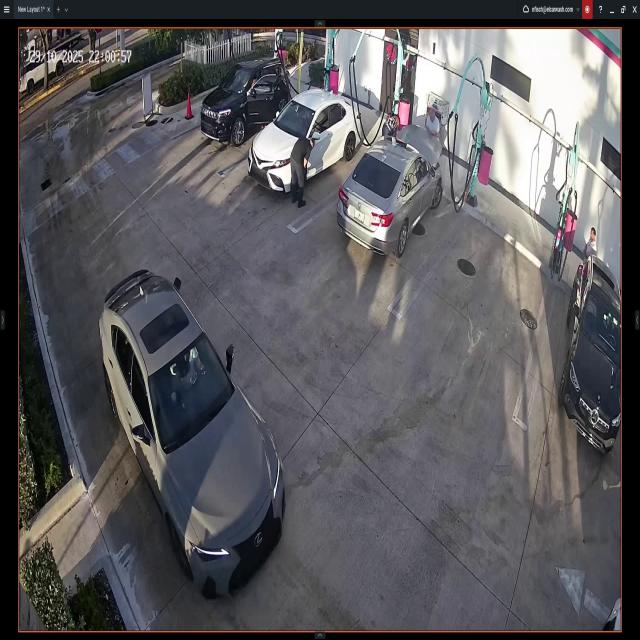Car: (102, 274, 287, 600), (338, 129, 445, 251), (248, 92, 362, 189), (566, 258, 621, 455), (202, 61, 286, 145)
